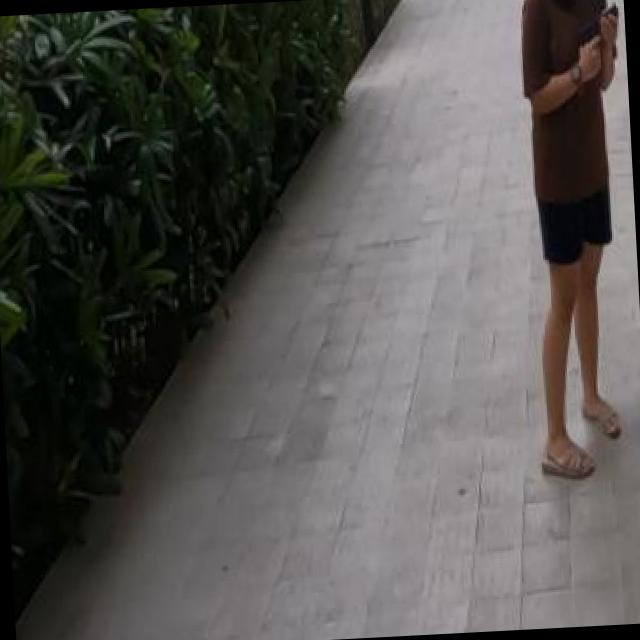Guns: (571, 0, 626, 52)
